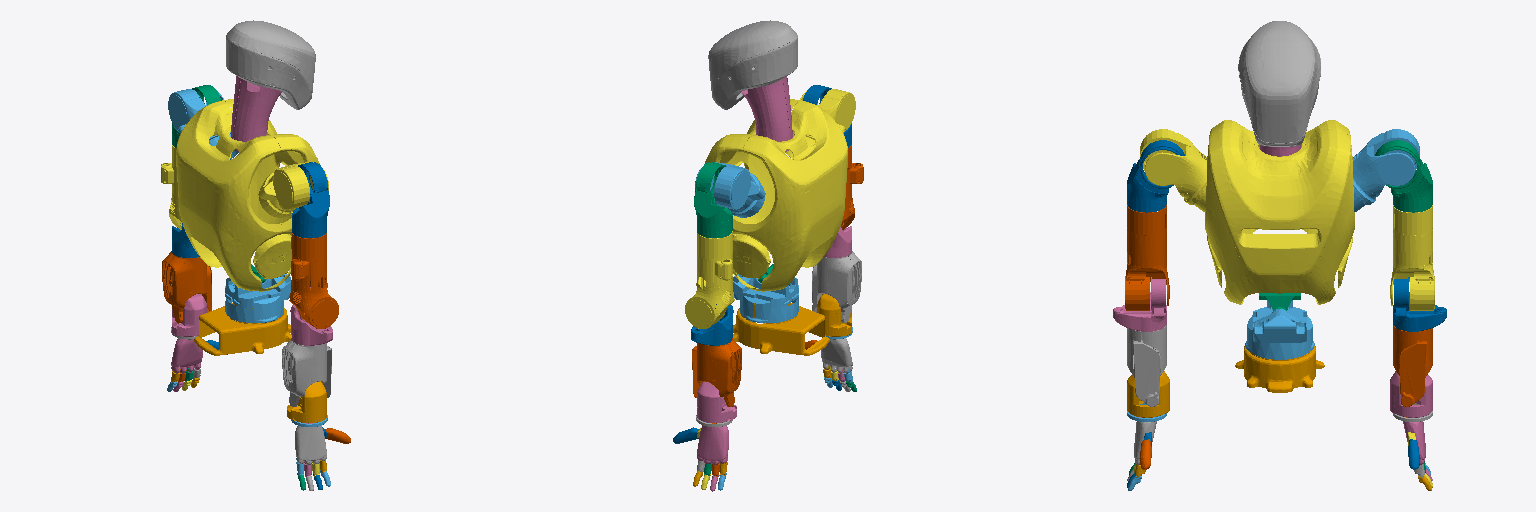
--- What the picture shows (computed from the rendered views, not written in the file) ---
The picture shows the robot from 3 angles, left to right: view 1: azimuth 30°, elevation 25°; view 2: azimuth 150°, elevation 25°; view 3: azimuth 270°, elevation 25°; orthographic projection.
Robot: alex_psyonic_hands — 63 links, 62 joints (39 revolute, 23 fixed); root link Pelvis; default pose: all joints at 0.
Visible links, largest first — view 1: Torso, Head, RightShoulderYawLink, Pelvis, RightWristYawLink, LeftWristYawLink, SpineYawLink, NeckYawLink, RightShoulderPitchLink, RightShoulderRollLink, LeftShoulderPitchLink, RightWristRollLink (+6 smaller); view 2: Torso, Head, LeftShoulderYawLink, Pelvis, LeftWristYawLink, RightWristYawLink, SpineYawLink, NeckYawLink, LeftShoulderPitchLink, LeftShoulderRollLink, RightShoulderPitchLink, LeftWristRollLink (+6 smaller); view 3: Torso, Head, RightShoulderYawLink, LeftShoulderYawLink, RightShoulderPitchLink, LeftShoulderPitchLink, SpineYawLink, Pelvis, LeftWristYawLink, RightWristYawLink, LeftShoulderRollLink, RightShoulderRollLink (+4 smaller).
Boxes of the visible links, x1,y1,x2,y2 form: Torso: [176, 99, 319, 291]; Head: [226, 20, 315, 109]; RightShoulderYawLink: [289, 233, 338, 328]; Pelvis: [194, 303, 291, 355]; RightWristYawLink: [282, 338, 331, 406]; LeftWristYawLink: [162, 251, 211, 323]; SpineYawLink: [225, 274, 290, 322]; NeckYawLink: [231, 76, 281, 151]; RightShoulderPitchLink: [258, 162, 328, 217]; RightShoulderRollLink: [292, 162, 329, 237]; LeftShoulderPitchLink: [168, 89, 238, 159]; RightWristRollLink: [287, 381, 326, 422]; Torso: [705, 99, 847, 291]; Head: [708, 20, 797, 109]; LeftShoulderYawLink: [685, 231, 734, 328]; Pelvis: [733, 303, 829, 355]; LeftWristYawLink: [692, 338, 741, 406]; RightWristYawLink: [812, 251, 861, 323]; SpineYawLink: [733, 274, 798, 322]; NeckYawLink: [742, 76, 792, 151]; LeftShoulderPitchLink: [695, 162, 765, 217]; LeftShoulderRollLink: [694, 162, 732, 237]; RightShoulderPitchLink: [785, 89, 855, 159]; LeftWristRollLink: [697, 381, 736, 422]; Torso: [1205, 120, 1354, 304]; Head: [1238, 21, 1320, 146]; RightShoulderYawLink: [1125, 205, 1169, 310]; LeftShoulderYawLink: [1390, 205, 1434, 310]; RightShoulderPitchLink: [1140, 129, 1206, 211]; LeftShoulderPitchLink: [1353, 129, 1419, 211]; SpineYawLink: [1245, 300, 1314, 359]; Pelvis: [1235, 346, 1324, 392]; LeftWristYawLink: [1393, 325, 1432, 406]; RightWristYawLink: [1127, 325, 1166, 406]; LeftShoulderRollLink: [1375, 140, 1432, 212]; RightShoulderRollLink: [1127, 140, 1184, 212].
Size in the robot's own frame: 0.3163 by 0.7309 by 1.11 metres.
Meshes: 29 distinct files referenced, 44 mesh visuals loaded (29 OBJ).

The robot description file, URDF, robot "alex_psyonic_hands":
<?xml version = "1.0" ?>
<!-- =================================================================================== -->
<!-- |    This document was autogenerated by xacro from robot.xacro                    | -->
<!-- |    EDITING THIS FILE BY HAND IS NOT RECOMMENDED                                 | -->
<!-- =================================================================================== -->
<robot name="alex_psyonic_hands">

		<!-- 8020 Base, Chest and Head -->
	<link name="Pelvis">
		<inertial>
			<mass value="4.074"/>
			<origin rpy="0 0 0" xyz="-0.010295 -0.001599 0.056458"/>
			<inertia ixx="0.010219858" ixy="-0.00012501" ixz="-0.001101619" iyy="0.015397437" iyz="-0.000162984" izz="0.015996955" />
		</inertial>
		<visual>
			<geometry>
				<mesh filename="package://example-robot-data/robots/alex_description/meshes/ALX02_02_A01_BaseLink.obj"/>
			</geometry>
			<origin rpy="0.0 0.0 0.0" xyz="0.0 0.0 0.0"/>
		</visual>
	<collision>
      <origin xyz="0 0 0.0" rpy="0 0 0" />
      <geometry>
        <mesh filename="package://example-robot-data/robots/alex_description/meshes/ALX02_02_A01_BaseLink.obj" />
      </geometry>
    </collision>
	</link>
	<!-- Spine Joints -->
	<joint name="SpineYaw" type="revolute">
		<origin rpy="0 0 0" xyz="0 0 0.1045" />
		<axis xyz="0 0 1" />
		<parent link="Pelvis" />
		<child link="SpineYawLink" />
		<limit effort="150" lower="-1.0472" upper="1.0472" velocity = "9.0" />
		<dynamics damping="0.05" friction="0.0"/>
    </joint>

	<joint name="SpineRoll" type="revolute">
		<origin rpy="0 0 0" xyz="-0.015 0 0.0528" />
		<axis xyz="1 0 0" />
		<parent link="SpineYawLink" />
		<child link="SpineRollLink" />
		<limit effort="150.0" lower="-0.436332" upper="0.436332" velocity = "6.0" />
		<dynamics damping="0.05" friction="0.0"/>
	</joint>

	<joint name="SpinePitch" type="revolute">
		<origin rpy="0 0 0" xyz="0 0 0.035" />
		<axis xyz="0 1 0" />
		<parent link="SpineRollLink" />
		<child link="Torso" />
		<limit effort="250.0" lower="-0.523599" upper="0.785398" velocity = "6.0" />
		<dynamics damping="0.05" friction="0.0"/>
	</joint>

	<!-- Spine Links -->
	<link name="SpineYawLink">
		<inertial>
			<mass value="1.839"/>
			<origin rpy="0 0 0" xyz="0.00785 0.001802 0.030654"/>
			<inertia ixx="0.005450626" ixy="0.000208526" ixz="-0.001171705" iyy="0.007137808" iyz="0.000116812" izz="0.006970545"/>
		</inertial>
		<visual>
			<geometry>
				<mesh filename="package://example-robot-data/robots/alex_description/meshes/ALX02_02_A04_BaseDiffLink.obj"/>
			</geometry>
			<origin rpy="0.0 0.0 0.0" xyz="0.0 0.0 0.0"/>
		</visual>
	<collision>
      <origin xyz="0 0 0.0" rpy="0 0 0" />
      <geometry>
        <mesh filename="package://example-robot-data/robots/alex_description/meshes/ALX02_02_A04_BaseDiffLink.obj" />
      </geometry>
    </collision>
	</link>

	<link name="SpineRollLink">
		<inertial>
			<mass value="0.235"/>
			<origin rpy="0 0 0" xyz="0.000674 0.000626 0.018996"/>
			<inertia ixx="0.000188204" ixy="0.000000058" ixz="0.000002065" iyy="0.000148152" iyz="-0.000002403" izz="0.000195223"/>
		</inertial>
		<visual>
			<geometry>
				<mesh filename="package://example-robot-data/robots/alex_description/meshes/ALX02_02_A05_UJointLink.obj"/>
			</geometry>
			<origin rpy="0.0 0.0 0.0" xyz="0.0 0.0 0.0"/>
		</visual>
	<collision>
      <origin xyz="0 0 0.0" rpy="0 0 0" />
      <geometry>
        <mesh filename="package://example-robot-data/robots/alex_description/meshes/ALX02_02_A05_UJointLink.obj" />
      </geometry>
    </collision>
	</link>

	<!-- Torso Link -->
	<link name="Torso">
		<inertial>
			<mass value="17.574"/>
			<origin rpy="0 0 0" xyz="0.003673 0.000059 0.160289"/>
			<inertia ixx="0.24725248" ixy="-0.000080922" ixz="0.000927935" iyy="0.158680043" iyz="0.000328726" izz="0.153487995"/>
		</inertial>
		<visual>
			<geometry>
				<mesh filename="package://example-robot-data/robots/alex_description/meshes/ALX02_02_A06_TorsoLink.obj"/>
			</geometry>
			<origin rpy="0.0 0.0 0.0" xyz="0.0 0.0 0.0"/>
		</visual>
	<collision>
      <origin xyz="0 0 0.0" rpy="0 0 0" />
      <geometry>
        <mesh filename="package://example-robot-data/robots/alex_description/meshes/ALX02_02_A06_TorsoLink.obj" />
      </geometry>
    </collision>
	</link>

	<!-- TORSO IMU's NOTE: The torso IMUs are redundant-->
	<!-- Torso Left IMU. Currently not used for anything-->
	<link name="TorsoLeftIMULink">
		<inertial>
			<mass value="0"/>
			<origin rpy="0 0 0" xyz="0 0 0"/>
			<inertia ixx="0.0" ixy="0.0" ixz="0.0" iyy="0.0" iyz="0.0" izz="0.0"/>
		</inertial>
	</link>
	<joint name="TorsoLeftIMUJoint" type="fixed">
		<origin rpy="1.5707963267948966 -0.6981317007977316 1.5707963267948961" xyz="0.07978495 0.10932294 0.17623744"/>
		<axis xyz="0 0 1"/>
		<parent link="Torso"/>
		<child link="TorsoLeftIMULink"/>
	</joint>
	<gazebo reference="TorsoLeftIMULink">
		<sensor name="TorsoLeftIMU" type="imu">
			<always_on>true</always_on>
			<imu>
				<noise>
					<type>gaussian</type>
					<rate>
						<mean>0</mean>
						<stddev>0.0002</stddev>
						<bias_mean>7.5e-06</bias_mean>
						<bias_stddev>8e-07</bias_stddev>
					</rate>
					<accel>
						<mean>0</mean>
						<stddev>0.017</stddev>
						<bias_mean>0.1</bias_mean>
						<bias_stddev>0.001</bias_stddev>
					</accel>
				</noise>
			</imu>
		</sensor>
	</gazebo>

	<!-- Torso Right IMU. Currently not used for anything-->
	<link name="TorsoRightIMULink">
		<inertial>
			<mass value="0"/>
			<origin rpy="0 0 0" xyz="0 0 0"/>
			<inertia ixx="0.0" ixy="0.0" ixz="0.0" iyy="0.0" iyz="0.0" izz="0.0"/>
		</inertial>
	</link>
	<joint name="TorsoRightIMUJoint" type="fixed">
		<origin rpy="1.5707963267948966 0.6981317007977319 1.5707963267948966" xyz="0.07978495 -0.09055680 0.16048643"/>
		<axis xyz="0 0 1"/>
		<parent link="Torso"/>
		<child link="TorsoRightIMULink"/>
	</joint>
	<gazebo reference="TorsoRightIMULink">
		<sensor name="TorsoRightIMU" type="imu">
			<always_on>true</always_on>
			<imu>
				<noise>
					<type>gaussian</type>
					<rate>
						<mean>0</mean>
						<stddev>0.0002</stddev>
						<bias_mean>7.5e-06</bias_mean>
						<bias_stddev>8e-07</bias_stddev>
					</rate>
					<accel>
						<mean>0</mean>
						<stddev>0.017</stddev>
						<bias_mean>0.1</bias_mean>
						<bias_stddev>0.001</bias_stddev>
					</accel>
				</noise>
			</imu>
		</sensor>
	</gazebo>

	<!-- Neck Joints -->
	<joint name="NeckYaw" type="revolute">
		<origin rpy="0 0 0" xyz="0 0 0.307953" /> <!-- placeholder for the joint location -->
		<axis xyz="0 0 1" />
		<parent link="Torso" />
		<child link="NeckYawLink" />
		<limit effort="20" lower="-1.5708" upper="1.5708" velocity = "20" />
		<dynamics damping="0.05" friction="0.0"/>
	</joint>

	<joint name="NeckPitch" type="revolute">
		<origin rpy="0 0 0" xyz="0.025 0.01 0.207252" />
		<axis xyz="0 1 0" />
		<parent link="NeckYawLink" />
		<child link="Head" />
		<limit effort="20" lower="-1.0472" upper="1.0472" velocity = "20" />
		<dynamics damping="0.05" friction="0.0"/>
	</joint>

	<!--	 Neck and Head -->
	<!--	 Inertia data is a placeholder -->
	<link name="NeckYawLink">
		<inertial>
			<mass value="1.141"/>
			<origin rpy="0 0 0" xyz="0.007143 0.006943 0.109823"/>
			<inertia ixx="0.007475898" ixy="-0.000075723" ixz="-0.000745362" iyy="0.007407578" iyz="-0.000436948" izz="0.00109269" />
		</inertial>
		<visual>
			<geometry>
				<mesh filename="package://example-robot-data/robots/alex_description/meshes/ALX02_01_A03_NeckLink.obj"/>
			</geometry>
			<origin rpy="0.0 0.0 0.0" xyz="0.0 0.0 0.0"/>
		</visual>
	<collision>
      <origin xyz="0 0 0.0" rpy="0 0 0" />
      <geometry>
        <mesh filename="package://example-robot-data/robots/alex_description/meshes/ALX02_01_A03_NeckLink.obj" />
      </geometry>
    </collision>
	</link>

	<link name="Head">
		<inertial>
			<mass value="1.677"/>
			<origin rpy="0 0 0" xyz="0.03237 -0.013568 0.007163"/>
			<inertia ixx="0.006026191" ixy="-0.000197484" ixz="0.001813659" iyy="0.008182071" iyz="-0.000042529" izz="0.00644909"/>
		</inertial>
		<visual>
			<geometry>
				<mesh filename="package://example-robot-data/robots/alex_description/meshes/ALX02_01_A02_HeadLink.obj"/>
			</geometry>
			<origin rpy="0.0 0.0 0.0" xyz="0.0 0.0 0.0"/>
		</visual>
	<collision>
      <origin xyz="0 0 0.0" rpy="0 0 0" />
      <geometry>
        <mesh filename="package://example-robot-data/robots/alex_description/meshes/ALX02_01_A02_HeadLink.obj" />
      </geometry>
    </collision>
	</link>

	<!-- NeckBaseIMU-->
	<!-- this is an IMU on top of the Neck yaw motor controller board-->
	<link name="TorsoIMULink">
		<inertial>
			<mass value="0"/>
			<origin rpy="0 0 0" xyz="0 0 0"/>
			<inertia ixx="0.0" ixy="0.0" ixz="0.0" iyy="0.0" iyz="0.0" izz="0.0"/>
		</inertial>
	</link>
	<joint name="TorsoIMUJoint" type="fixed">
		<origin rpy="0 0 -1.5707963267948966" xyz="0.00399725 -0.01225021 0.24512039"/>
		<axis xyz="0 0 1"/>
		<parent link="Torso"/>
		<child link="TorsoIMULink"/>
	</joint>
	<gazebo reference="TorsoIMULink">
		<sensor name="TorsoIMU" type="imu">
			<always_on>true</always_on>
			<imu>
				<noise>
					<type>gaussian</type>
					<rate>
						<mean>0</mean>
						<stddev>0.0002</stddev>
						<bias_mean>7.5e-06</bias_mean>
						<bias_stddev>8e-07</bias_stddev>
					</rate>
					<accel>
						<mean>0</mean>
						<stddev>0.017</stddev>
						<bias_mean>0.1</bias_mean>
						<bias_stddev>0.001</bias_stddev>
					</accel>
				</noise>
			</imu>
		</sensor>
	</gazebo>

	<!-- LEFT ARM -->
	<!-- left upper arm joints -->
	<joint name="LeftShoulderPitch" type="revolute">
		<origin xyz="0 0.12799 0.235694" rpy="0.698132 0.0 0.0"   />
		<axis xyz="0.0 1.0 0.0" />
		<parent link="Torso" />
		<child link="LeftShoulderPitchLink" />
		<limit effort="150.0" lower="-3.141592" upper="1.22173" velocity = "9.0" />
		<dynamics damping="0.05" friction="0.0"/>
	</joint>

	<joint name="LeftShoulderRoll" type="revolute">
		<origin rpy="-0.698132 0.0 0.0" xyz="0.0 0.15676000 -0.01300000" />
		<axis xyz="1 0 0" />
		<parent link="LeftShoulderPitchLink" />
		<child link="LeftShoulderRollLink" />
		<limit effort="150.0" lower="-0.349066" upper="2.79253" velocity = "9.0" />
		<dynamics damping="0.05" friction="0.0"/>
	</joint>

	<joint name="LeftShoulderYaw" type="revolute">
		<origin rpy="0.0 0.0 0.0" xyz="0.0 0.035 0.0" />
		<axis xyz="0.0 0.0 1.0" />
		<parent link="LeftShoulderRollLink" />
		<child link="LeftShoulderYawLink" />
		<limit effort="80.0" lower="-1.91986" upper="1.22173" velocity = "11.5" />
		<dynamics damping="0.05" friction="0.0"/>
	</joint>

	<joint name="LeftElbowPitch" type="revolute">
		<origin rpy="0.0 0.0 0.0" xyz="0.015 0.0 -0.3127" />
		<axis xyz="0.0 1.0 0.0" />
		<parent link="LeftShoulderYawLink" />
		<child link="LeftElbowPitchLink" />
		<limit effort="80.0" lower="-2.35619" upper="0.174532925" velocity = "11.5" />
		<dynamics damping="0.05" friction="0.0"/>
	</joint>

	<!-- left wrist joints -->
	<joint name="LeftWristYaw" type="revolute">
		<origin xyz="-0.015 0.0 0.0" rpy="0.0 0.0 0.0"   />
		<axis xyz="0.0 0.0 1.0" />
		<parent link="LeftElbowPitchLink" />
		<child link="LeftWristYawLink" />
		<limit effort="20.0" lower="-2.61799" upper="2.61799" velocity = "25.0" />
		<dynamics damping="0.05" friction="0.0"/>
	</joint>

	<joint name="LeftWristRoll" type="revolute">
		<origin xyz="0.0 -0.013 -0.25" rpy="0.0 0.0 0.0"/>
		<axis xyz="1 0 0" />
		<parent link="LeftWristYawLink" />
		<child link="LeftWristRollLink" />
		<limit effort="20.0" lower="-1.8326" upper="0.610865" velocity = "25.0" />
		<dynamics damping="0.05" friction="0.0"/>
	</joint>

	<joint name="LeftGripperYaw" type="revolute">
		<origin xyz="0.0 0.013 -0.031" rpy="0.0 0.0 0.0" />
		<axis xyz="0.0 0.0 1.0" />
		<parent link="LeftWristRollLink" />
		<child link="LeftGripperYawLink" />
		<limit effort="20.0" lower="-2.61799" upper="2.61799" velocity = "25.0" />
		<dynamics damping="0.05" friction="0.0"/>
	</joint>

	<!-- left upper arm links -->
	<link name="LeftShoulderPitchLink">
		<inertial>
			<mass value="2.99"/>
			<origin
					rpy="0 0 0"
					xyz="-0.00264 0.12135 -0.006824"/>
			<inertia ixx="0.0111046" ixy="0.0002882" ixz="-0.000054" iyy="0.0051699" iyz="0.0009318" izz="0.01176" />
		</inertial>
		<visual>
			<geometry>
				<mesh filename="package://example-robot-data/robots/alex_description/meshes/cycloidal_arm/LeftShoulderPitchLink.obj"/>
			</geometry>
			<origin rpy="0.0 0.0 0.0" xyz="0.0 0.0 0.0"/>
		</visual>
	<collision>
      <origin xyz="0 0 0.0" rpy="0 0 0" />
      <geometry>
        <mesh filename="package://example-robot-data/robots/alex_description/meshes/cycloidal_arm/LeftShoulderPitchLink.obj" />
      </geometry>
    </collision>
	</link>

	<link name="LeftShoulderRollLink">
		<inertial>
			<mass value="0.972"/>
			<origin
					rpy="0 0 0"
					xyz="0.01251711 0.0188309 -0.03849849"/>
			<inertia ixx="0.0029485" ixy="0.0001386" ixz="-0.0003345" iyy="0.0023587" iyz="0.0005255" izz="0.0014366" />
		</inertial>
		<visual>
			<geometry>
				<mesh filename="package://example-robot-data/robots/alex_description/meshes/cycloidal_arm/LeftShoulderRollLink_shortBicep.obj"/>
			</geometry>
			<origin rpy="0.0 0.0 0.0" xyz="0.0 0.0 0.0"/>
		</visual>
	<collision>
      <origin xyz="0 0 0.0" rpy="0 0 0" />
      <geometry>
        <mesh filename="package://example-robot-data/robots/alex_description/meshes/cycloidal_arm/LeftShoulderRollLink_shortBicep.obj" />
      </geometry>
    </collision>
	</link>

	<link name="LeftShoulderYawLink">
		<inertial>
			<mass value="2.91"/>
			<origin
					rpy="0 0 0"
					xyz="0.00510403 0.00314332 -0.21695413"/>
			<inertia ixx="0.0267829" ixy="-0.000011" ixz="0.0015998" iyy="0.0265514" iyz="0.0004426" izz="0.003052" />
		</inertial>
		<visual>
			<geometry>
				<mesh filename="package://example-robot-data/robots/alex_description/meshes/cycloidal_arm/LeftShoulderYawLink.obj"/>
			</geometry>
			<origin rpy="0.0 0.0 0.0" xyz="0.0 0.0 0.0867"/>
		</visual>
	<collision>
      <origin xyz="0 0 0.0" rpy="0 0 0" />
      <geometry>
        <mesh filename="package://example-robot-data/robots/alex_description/meshes/cycloidal_arm/LeftShoulderYawLink.obj" />
      </geometry>
    </collision>
	</link>

	<!-- left wrist links -->
	<link name="LeftElbowPitchLink">
		<inertial>
			<mass value="0.45"/>
			<origin
					rpy="0 0 0"
					xyz="-0.01180322 -0.0035763 -0.04946747"/>

			<inertia ixx="0.0007362" ixy="-0.0000088" ixz="-0.0000292" iyy="0.0006567" iyz="0.0001499" izz="0.0004897" />
		</inertial>
		<visual>
			<geometry>
				<mesh filename="package://example-robot-data/robots/alex_description/meshes/cycloidal_arm/LeftElbowPitchLink.obj"/>
			</geometry>
			<origin rpy="0.0 0.0 0.0" xyz="0.0 0.0 0.0"/>
		</visual>
	<collision>
      <origin xyz="0 0 0.0" rpy="0 0 0" />
      <geometry>
        <mesh filename="package://example-robot-data/robots/alex_description/meshes/cycloidal_arm/LeftElbowPitchLink.obj" />
      </geometry>
    </collision>
	</link>

	<link name="LeftWristYawLink">
		<inertial>
			<mass value="1.547"/> <!-- This is a measured value. Refer to https://docs.google.com/spreadsheets/d/1VXWFJk3VJUsfkHrDaytB2INq94un1KytIOzcKJD0p44/edit?gid=0#gid=0  -->
			<origin
					rpy="0 0 0"
					xyz="-0.00263832 -0.00050534 -0.13018376"/>

			<inertia ixx="0.0037869" ixy="0.0000163" ixz="-0.0000252" iyy="0.004071" iyz="-0.0000924" izz="0.0015203" />
		</inertial>
		<visual>
			<geometry>
				<mesh filename="package://example-robot-data/robots/alex_description/meshes/cycloidal_arm/LeftWristYawLink.obj"/>
			</geometry>
			<origin rpy="0.0 0.0 0.0" xyz="0.0 0.0 0.0"/>
		</visual>
	<collision>
      <origin xyz="0 0 0.0" rpy="0 0 0" />
      <geometry>
        <mesh filename="package://example-robot-data/robots/alex_description/meshes/cycloidal_arm/LeftWristYawLink.obj" />
      </geometry>
    </collision>
	</link>


	<link name="LeftWristRollLink">
		<inertial>
			<mass value="0.909"/> <!-- This is a measured value. Refer to https://docs.google.com/spreadsheets/d/1VXWFJk3VJUsfkHrDaytB2INq94un1KytIOzcKJD0p44/edit?gid=0#gid=0  -->
			<origin
					rpy="0 0 0"
					xyz="0.00004053 0.01038395 0.00035532"/>

			<inertia ixx="0.000477" ixy="-0.0000079" ixz="-0.0000097" iyy="0.0004902" iyz="-0.0000008" izz="0.000514" />
		</inertial>

		<visual>
			<geometry>
				<mesh filename="package://example-robot-data/robots/alex_description/meshes/cycloidal_arm/LeftWristRollLink.obj"/>
			</geometry>
			<origin rpy="0.0 0.0 0.0" xyz="0.0 0.0 0.0"/>
		</visual>
	<collision>
      <origin xyz="0 0 0.0" rpy="0 0 0" />
      <geometry>
        <mesh filename="package://example-robot-data/robots/alex_description/meshes/cycloidal_arm/LeftWristRollLink.obj" />
      </geometry>
    </collision>
	</link>


	<link name="LeftGripperYawLink">
		<inertial>
			<mass value="0.251"/>
			<origin
					rpy="0 0 0"
					xyz="-0.000217 -0.000349 0.009761"/>
			<inertia ixx="0.0000722" ixy="-0.0000016" ixz="-0.0000037" iyy="0.0000747" iyz="0.0000004" izz="0.0000324" />
		</inertial>
		<visual>
			<geometry>
				<mesh filename="package://example-robot-data/robots/alex_description/meshes/cycloidal_arm/LeftGripperYawLink.obj"/>
			</geometry>
			<origin rpy="0.0 0.0 0.0" xyz="0.0 0.0 0.0"/>
		</visual>
	<collision>
      <origin xyz="0 0 0.0" rpy="0 0 0" />
      <geometry>
        <mesh filename="package://example-robot-data/robots/alex_description/meshes/cycloidal_arm/LeftGripperYawLink.obj" />
      </geometry>
    </collision>
	</link>

	<!-- LEFT ARM IMU's -->
	<!-- Left Shoulder Pitch IMU Information -->
	<link name="LeftShoulderPitchIMULink">
		<inertial>
			<mass value="0"/>
			<origin rpy="0 0 0" xyz="0 0 0"/>
			<inertia ixx="0.0" ixy="0.0" ixz="0.0" iyy="0.0" iyz="0.0" izz="0.0"/>
		</inertial>
	</link>
	<joint name="LeftShoulderPitchIMUJoint" type="fixed">
		<origin rpy="-3.141592 0 -1.57079632679" xyz="0.01432621 0.0755071 -0.00245783"/>
		<axis xyz="0 0 1"/>
		<parent link="LeftShoulderPitchLink"/>
		<child link="LeftShoulderPitchIMULink"/>
	</joint>
	<gazebo reference="LeftShoulderPitchIMULink">
		<sensor name="LeftShoulderPitchIMU" type="imu">
			<always_on>true</always_on>
			<imu>
				<noise>
					<type>gaussian</type>
					<rate>
						<mean>0</mean>
						<stddev>0.0002</stddev>
						<bias_mean>7.5e-06</bias_mean>
						<bias_stddev>8e-07</bias_stddev>
					</rate>
					<accel>
						<mean>0</mean>
						<stddev>0.017</stddev>
						<bias_mean>0.1</bias_mean>
						<bias_stddev>0.001</bias_stddev>
					</accel>
				</noise>
			</imu>
		</sensor>
	</gazebo>

	<!-- Left ShoulderYaw IMU Note: in CAD this is the left bicep IMU -->
	<link name="LeftShoulderYawIMULink">
		<inertial>
			<mass value="0"/>
			<origin rpy="0 0 0" xyz="0 0 0"/>
			<inertia ixx="0.0" ixy="0.0" ixz="0.0" iyy="0.0" iyz="0.0" izz="0.0"/>
		</inertial>
	</link>
	<joint name="LeftShoulderYawIMUJoint" type="fixed">
		<origin rpy="1.570796 3.1415926 -0.314159" xyz="-0.00633723 -0.00669505 -0.19881468"/>
		<axis xyz="0 0 1"/>
		<parent link="LeftShoulderYawLink"/>
		<child link="LeftShoulderYawIMULink"/>
	</joint>
	<gazebo reference="LeftShoulderYawIMULink">
		<sensor name="LeftShoulderYawIMU" type="imu">
			<always_on>true</always_on>
			<pose>0 0 0 0 0 0</pose>
			<imu>
				<noise>
					<type>gaussian</type>
					<rate>
						<mean>0</mean>
						<stddev>0.0002</stddev>
						<bias_mean>7.5e-06</bias_mean>
						<bias_stddev>8e-07</bias_stddev>
					</rate>
					<accel>
						<mean>0</mean>
						<stddev>0.017</stddev>
						<bias_mean>0.1</bias_mean>
						<bias_stddev>0.001</bias_stddev>
					</accel>
				</noise>
			</imu>
		</sensor>
	</gazebo>

	<!-- Left Wrist Yaw IMU Note: in CAD this is the left bicep IMU -->
	<link name="LeftWristYawIMULink">
		<inertial>
			<mass value="0"/>
			<origin rpy="0 0 0" xyz="0 0 0"/>
			<inertia ixx="0.0" ixy="0.0" ixz="0.0" iyy="0.0" iyz="0.0" izz="0.0"/>
		</inertial>
	</link>

	<joint name="LeftWristYawIMUJoint" type="fixed">
		<origin rpy="1.571  0.0 1.571" xyz="-0.048986 0.011658 -0.149476"/>
		<axis xyz="0 0 1"/>
		<parent link="LeftWristYawLink"/>
		<child link="LeftWristYawIMULink"/>
	</joint>

	<gazebo reference="LeftWristYawIMULink">
		<sensor name="LeftWristYawIMU" type="imu">
			<always_on>true</always_on>
			<imu> <!-- placeholder tag for IMU --> </imu>
		</sensor>
	</gazebo>

	<!-- RIGHT ARM -->
	<!-- Right Upper Arm Joints -->
	<joint name="RightShoulderPitch" type="revolute">
		<origin xyz="0 -0.12799 0.235694" rpy="-0.698132 0.0 0.0"   />
		<axis xyz="0.0 1.0 0.0" />
		<parent link="Torso" />
		<child link="RightShoulderPitchLink" />
		<limit effort="1000" lower="-3.141592" upper="1.22173" velocity = "100" />
		<dynamics damping="0.05" friction="0.0"/>
	</joint>
	<joint name="RightShoulderRoll" type="revolute">
		<origin rpy="0.698132 0.0 0.0" xyz="0.0 -0.15676000 -0.01300000" />
		<axis xyz="1 0 0" />
		<parent link="RightShoulderPitchLink" />
		<child link="RightShoulderRollLink" />
		<limit effort="1000" lower="-2.79253" upper="0.349066" velocity = "100" />
		<dynamics damping="0.05" friction="0.0"/>
	</joint>
	<joint name="RightShoulderYaw" type="revolute">
		<origin rpy="0.0 0.0 0.0" xyz="0.0 -0.035 0.0" />
		<axis xyz="0.0 0.0 1.0" />
		<parent link="RightShoulderRollLink" />
		<child link="RightShoulderYawLink" />
		<limit effort="1000" lower="-1.22173" upper="1.91986" velocity = "100" />
		<dynamics damping="0.05" friction="0.0"/>
	</joint>
	<joint name="RightElbowPitch" type="revolute">
		<origin rpy="0.0 0.0 0.0" xyz="0.015 0.0 -0.3127" />
		<axis xyz="0.0 1.0 0.0" />
		<parent link="RightShoulderYawLink" />
		<child link="RightElbowPitchLink" />
		<limit effort="1000" lower="-2.35619" upper="0.174532925" velocity = "100" />
		<dynamics damping="0.05" friction="0.0"/>
	</joint>

	<!-- Right wrist joints -->
	<joint name="RightWristYaw" type="revolute">
		<origin xyz="-0.015 0.0 0.0" rpy="0.0 0.0 0.0"   />
		<axis xyz="0.0 0.0 1.0" />
		<parent link="RightElbowPitchLink" />
		<child link="RightWristYawLink" />
		<limit effort="20.0" lower="-2.61799" upper="2.61799" velocity = "25.0" />
		<dynamics damping="0.05" friction="0.0"/>
	</joint>

	<joint name="RightWristRoll" type="revolute">
		<origin xyz="0.0 0.013 -0.25" rpy="0.0 0.0 0.0"/>
		<axis xyz="1 0 0" />
		<parent link="RightWristYawLink" />
		<child link="RightWristRollLink" />
		<limit effort="20.0" lower="-0.610865" upper="1.8326" velocity = "25.0" />
		<dynamics damping="0.05" friction="0.0"/>
	</joint>

	<joint name="RightGripperYaw" type="revolute">
		<origin xyz="0.0 -0.013 -0.031" rpy="0.0 0.0 0.0" />
		<axis xyz="0.0 0.0 1.0" />
		<parent link="RightWristRollLink" />
		<child link="RightGripperYawLink" />
		<limit effort="20.0" lower="-2.61799" upper="2.61799" velocity = "25.0" />
		<dynamics damping="0.05" friction="0.0"/>
	</joint>

	<!-- Right Upper Arm Links -->
	<link name="RightShoulderPitchLink">
		<inertial>
			<mass value="2.99"/>
			<origin rpy="0 0 0" xyz="-0.00264 -0.12135 -0.006824"/>
			<inertia ixx="0.0110394" ixy="-0.0003041" ixz="-0.0000594" iyy="0.0051097" iyz="-0.0009183" izz="0.0116925" />
		</inertial>
		<visual>
			<geometry>
				<mesh filename="package://example-robot-data/robots/alex_description/meshes/cycloidal_arm/RightShoulderPitchLink.obj"/>
			</geometry>
			<origin rpy="0.0 0.0 0.0" xyz="0.0 0.0 0.0"/>
		</visual>
	<collision>
      <origin xyz="0 0 0.0" rpy="0 0 0" />
      <geometry>
        <mesh filename="package://example-robot-data/robots/alex_description/meshes/cycloidal_arm/RightShoulderPitchLink.obj" />
      </geometry>
    </collision>
	</link>

	<link name="RightShoulderRollLink">
		<inertial>
			<mass value="0.972"/>
			<origin rpy="0 0 0" xyz="0.012489 -0.01882 -0.0385"/>
			<inertia ixx="0.002949" ixy="-0.000135" ixz="-0.0003358" iyy="0.0023603" iyz="-0.0005249" izz="0.0014377" />
		</inertial>
		<visual>
			<geometry>
				<mesh filename="package://example-robot-data/robots/alex_description/meshes/cycloidal_arm/RightShoulderRollLink_shortBicep.obj"/>
			</geometry>
			<origin rpy="0.0 0.0 0.0" xyz="0.0 0.0 0.0"/>
		</visual>
	<collision>
      <origin xyz="0 0 0.0" rpy="0 0 0" />
      <geometry>
        <mesh filename="package://example-robot-data/robots/alex_description/meshes/cycloidal_arm/RightShoulderRollLink_shortBicep.obj" />
      </geometry>
    </collision>
	</link>

	<link name="RightShoulderYawLink">
		<inertial>
			<mass value="2.91"/>
			<origin rpy="0 0 0" xyz="0.00524 -0.00274 -0.21745"/>
			<inertia ixx="0.0248699" ixy="0.0000211" ixz="0.0000211" iyy="0.0245973" iyz="-0.0004444" izz="0.0029883" />
		</inertial>
		<visual>
			<geometry>
				<mesh filename="package://example-robot-data/robots/alex_description/meshes/cycloidal_arm/RightShoulderYawLink.obj"/>
			</geometry>
			<origin rpy="0.0 0.0 0.0" xyz="0.0 0.0 0.0867"/>
		</visual>
	<collision>
      <origin xyz="0 0 0.0" rpy="0 0 0" />
      <geometry>
        <mesh filename="package://example-robot-data/robots/alex_description/meshes/cycloidal_arm/RightShoulderYawLink.obj" />
      </geometry>
    </collision>
	</link>

	<!-- right wrist links -->
	<link name="RightElbowPitchLink">
		<inertial>
			<mass value="0.45"/>
			<origin xyz="-0.0127 0.006913 -0.048421" rpy="0 0 0"/>
			<inertia ixx="0.0006446" ixy="-0.0000073" ixz="-0.0000345" iyy="0.000625" iyz="-0.0001257" izz="0.0003922" />
		</inertial>
		<visual>
			<geometry>
				<mesh filename="package://example-robot-data/robots/alex_description/meshes/cycloidal_arm/RightElbowPitchLink.obj"/>
			</geometry>
			<origin rpy="0.0 0.0 0.0" xyz="0.0 0.0 0.0"/>
		</visual>
	<collision>
      <origin xyz="0 0 0.0" rpy="0 0 0" />
      <geometry>
        <mesh filename="package://example-robot-data/robots/alex_description/meshes/cycloidal_arm/RightElbowPitchLink.obj" />
      </geometry>
    </collision>
	</link>

	<link name="RightWristYawLink">
		<inertial>
			<mass value="1.547"/> <!-- This is a measured value. Refer to https://docs.google.com/spreadsheets/d/1VXWFJk3VJUsfkHrDaytB2INq94un1KytIOzcKJD0p44/edit?gid=0#gid=0  -->
			<origin xyz="-0.002616 0.000462 -0.13019" rpy="0 0 0"/>
			<inertia ixx="0.0037805" ixy="-0.0000177" ixz="-0.000025" iyy="0.0040639" iyz="0.00009" izz="0.0015151" />
		</inertial>
		<visual>
			<geometry>
				<mesh filename="package://example-robot-data/robots/alex_description/meshes/cycloidal_arm/RightWristYawLink.obj"/>
			</geometry>
			<origin rpy="0.0 0.0 0.0" xyz="0.0 0.0 0.0"/>
		</visual>
	<collision>
      <origin xyz="0 0 0.0" rpy="0 0 0" />
      <geometry>
        <mesh filename="package://example-robot-data/robots/alex_description/meshes/cycloidal_arm/RightWristYawLink.obj" />
      </geometry>
    </collision>
	</link>

	<link name="RightWristRollLink">
		<inertial>
			<mass value="0.909"/> <!-- This is a measured value. Refer to https://docs.google.com/spreadsheets/d/1VXWFJk3VJUsfkHrDaytB2INq94un1KytIOzcKJD0p44/edit?gid=0#gid=0  -->
			<origin xyz="-0.0000481 -0.012143 0.000196" rpy="0 0 0"/>
			<inertia ixx="0.0005535" ixy="0.0000081" ixz="-0.0000231" iyy="0.0005559" iyz="0.0000012" izz="0.0005893" />
		</inertial>
		<visual>
			<geometry>
				<mesh filename="package://example-robot-data/robots/alex_description/meshes/cycloidal_arm/RightWristRollLink.obj"/>
			</geometry>
			<origin rpy="0.0 0.0 0.0" xyz="0.0 0.0 0.0"/>
		</visual>
	<collision>
      <origin xyz="0 0 0.0" rpy="0 0 0" />
      <geometry>
        <mesh filename="package://example-robot-data/robots/alex_description/meshes/cycloidal_arm/RightWristRollLink.obj" />
      </geometry>
    </collision>
	</link>

	<link name="RightGripperYawLink">
		<inertial>
			<mass value="0.251"/>
			<origin rpy="0 0 0" xyz="-0.000217 -0.000349 0.009761"/>
			<inertia ixx="0.0000722" ixy="-0.0000016" ixz="-0.0000037" iyy="0.0000747" iyz="0.0000004" izz="0.0000324" />
		</inertial>
		<visual>
			<geometry>
				<mesh filename="package://example-robot-data/robots/alex_description/meshes/cycloidal_arm/RightGripperYawLink.obj"/>
			</geometry>
			<origin rpy="0.0 0.0 0.0" xyz="0.0 0.0 0.0"/>
		</visual>
	<collision>
      <origin xyz="0 0 0.0" rpy="0 0 0" />
      <geometry>
        <mesh filename="package://example-robot-data/robots/alex_description/meshes/cycloidal_arm/RightGripperYawLink.obj" />
      </geometry>
    </collision>
	</link>
	<!-- Right ARM IMU's -->
	<!-- Right Shoulder Pitch IMU Information -->
	<link name="RightShoulderPitchIMULink">
		<inertial>
			<mass value="0"/>
			<origin rpy="0 0 0" xyz="0 0 0"/>
			<inertia ixx="0.0" ixy="0.0" ixz="0.0" iyy="0.0" iyz="0.0" izz="0.0"/>
		</inertial>
	</link>
	<joint name="RightShoulderPitchIMUJoint" type="fixed">
		<origin rpy="3.141592 0 -1.57079632679" xyz="0.01432621 -0.10001299 -0.00245783"/>
		<axis xyz="0 0 1"/>
		<parent link="RightShoulderPitchLink"/>
		<child link="RightShoulderPitchIMULink"/>
	</joint>
	<gazebo reference="RightShoulderPitchIMULink">
		<sensor name="RightShoulderPitchIMU" type="imu">
			<always_on>true</always_on>
			<imu>
				<noise>
					<type>gaussian</type>
					<rate>
						<mean>0</mean>
						<stddev>0.0002</stddev>
						<bias_mean>7.5e-06</bias_mean>
						<bias_stddev>8e-07</bias_stddev>
					</rate>
					<accel>
						<mean>0</mean>
						<stddev>0.017</stddev>
						<bias_mean>0.1</bias_mean>
						<bias_stddev>0.001</bias_stddev>
					</accel>
				</noise>
			</imu>
		</sensor>
	</gazebo>

	<!-- Right ShoulderYaw IMU Note: in CAD this is the left bicep IMU -->
	<link name="RightShoulderYawIMULink">
		<inertial>
			<mass value="0"/>
			<origin rpy="0 0 0" xyz="0 0 0"/>
			<inertia ixx="0.0" ixy="0.0" ixz="0.0" iyy="0.0" iyz="0.0" izz="0.0"/>
		</inertial>
	</link>
	<joint name="RightShoulderYawIMUJoint" type="fixed">
		<origin rpy="-1.570796 0.0 0.314159" xyz="0.00119168 0.00914134 -0.19881468"/>
		<axis xyz="0 0 1"/>
		<parent link="RightShoulderYawLink"/>
		<child link="RightShoulderYawIMULink"/>
	</joint>
	<gazebo reference="RightShoulderYawIMULink">
		<sensor name="RightShoulderYawIMU" type="imu">
			<always_on>true</always_on>
			<pose>0 0 0 0 0 0</pose>
			<imu>
				<noise>
					<type>gaussian</type>
					<rate>
						<mean>0</mean>
						<stddev>0.0002</stddev>
						<bias_mean>7.5e-06</bias_mean>
						<bias_stddev>8e-07</bias_stddev>
					</rate>
					<accel>
						<mean>0</mean>
						<stddev>0.017</stddev>
						<bias_mean>0.1</bias_mean>
						<bias_stddev>0.001</bias_stddev>
					</accel>
				</noise>
			</imu>
		</sensor>
	</gazebo>

	<!-- Right Wrist Yaw IMU Note: in CAD this is the left bicep IMU -->
	<link name="RightWristYawIMULink">
		<inertial>
			<mass value="0"/>
			<origin rpy="0 0 0" xyz="0 0 0"/>
			<inertia ixx="0.0" ixy="0.0" ixz="0.0" iyy="0.0" iyz="0.0" izz="0.0"/>
		</inertial>
	</link>

	<joint name="RightWristYawIMUJoint" type="fixed">
		<origin rpy="1.571  0.0 1.571" xyz="-0.048986 0.011658 -0.149476"/>
		<axis xyz="0 0 1"/>
		<parent link="RightWristYawLink"/>
		<child link="RightWristYawIMULink"/>
	</joint>

	<gazebo reference="RightWristYawIMULink">
		<sensor name="RightWristYawIMU" type="imu">
			<always_on>true</always_on>
			<imu> <!-- placeholder tag for IMU --> </imu>
		</sensor>
	</gazebo>

<!-- Gripper Fixed Joints -->
	<joint name="rightGrippertAttachmentFixedJoint" type="fixed">
		<origin rpy="-3.141592 0 3.141592" xyz="0 0 -0.02560000"/>
		<parent link="RightGripperYawLink"/>
		<child link="RightPsyonicAbilityBaseLink"/>
    </joint>

	<joint name="leftGrippertAttachmentFixedJoint" type="fixed">
		<origin rpy="3.141592 0 0" xyz="0 0 -0.02560000"/>
		<parent link="LeftGripperYawLink"/>
		<child link="LeftPsyonicAbilityBaseLink"/>
    </joint>

	<!-- Left Psyonic Ability Hand -->
	<link name="LeftPsyonicAbilityBaseLink">
		<visual name="wrist_mesh">
			<origin rpy = "0 0 0" xyz = "0 0 0"/>
			<geometry>
				<mesh filename="package://example-robot-data/robots/alex_description/meshes/wristmesh.obj"/>
			</geometry>
		</visual>
		<inertial>	<!-- the mass and inertia here are NOT correct -->
			<mass value = "0.200"/>
			<inertia ixx="978.26e-6" ixy = "87.34e-6" ixz = "322.99e-6" iyy = "1244.78e-6" iyz = "244.74e-6" izz = "456.22e-6" />
			<origin xyz = "22.41911e-3 -0.15798201e-3 -0.01319866e-3" rpy = "0 0 0"/>
		</inertial>
		<collision>
      <origin xyz="0 0 0" rpy="0 0 0" />
      <geometry>
        <mesh filename="package://example-robot-data/robots/alex_description/meshes/wristmesh.obj" />
      </geometry>
    </collision>
	</link>
	<joint name="Left_wrist2thumb" type="fixed">
		<parent link="LeftPsyonicAbilityBaseLink"/>
		<child link="Left_thumb_base"/>
		<origin xyz = "24.0476665e-3 3.78124745e-3 32.32964923e-3" rpy = "3.14148426 0.08848813 3.14036612"/>
	</joint>

	<link name="Left_thumb_base" >
		<inertial>
			<mass value = "0.400"/>
			<inertia ixx="978.26e-6" ixy = "87.34e-6" ixz = "322.99e-6" iyy = "1244.78e-6" iyz = "244.74e-6" izz = "456.22e-6" />
			<origin xyz = "22.41911e-3 -0.15798201e-3 -0.01319866e-3" rpy = "0 0 0"/>
		</inertial>

		<visual name="palm_mesh">
			<origin rpy = "0 0 0" xyz = "0 0 0"/>
			<geometry>
				<mesh filename="package://example-robot-data/robots/alex_description/meshes/fb_palm_ref.obj"/>
			</geometry>
		</visual>
		<collision>
      <origin xyz="0 0 0" rpy="0 0 0" />
      <geometry>
        <mesh filename="package://example-robot-data/robots/alex_description/meshes/fb_palm_ref.obj" />
      </geometry>
    </collision>
	</link>



	<link name="Left_index_L1" >
		<inertial>
			<mass value = "0.00635888"/>
			<inertia ixx="0.29766e-6" ixy = "-0.06447133e-6" ixz = "-0.00423315e-6" iyy = "3.6947967e-6" iyz = "0.00083028e-6" izz = "3.8176336e-6" />
			<origin xyz = "22.41911e-3 -0.15798201e-3 -0.01319866e-3" rpy = "0 0 0"/>
		</inertial>
		<visual name="index_mesh_1">
			<origin xyz = "0 0 0" rpy = "0 0 0"/>
			<geometry>
				<mesh filename="package://example-robot-data/robots/alex_description/meshes/idx-f1.obj"/>
			</geometry>
		</visual>
		<collision>
      <origin xyz="0 0 0" rpy="0 0 0" />
      <geometry>
        <mesh filename="package://example-robot-data/robots/alex_description/meshes/idx-f1.obj" />
      </geometry>
    </collision>
	</link>
	<link name="Left_index_L2" >
		<inertial>
			<mass value = "0.00645"/>
			<inertia ixx="0.82671e-6" ixy = "-1.08876e-6" ixz = "-0.00037e-6" iyy = "1.98028e-6" iyz = "0.00081e-6" izz = "2.64638e-6" />
			<origin rpy = "0 0 0" xyz = "13.36818e-3 -8.75392e-3 -0.02886e-3"/>
		</inertial>
		<visual name="index_mesh_2">
			<origin rpy = "0 0 0" xyz = "0 0 0"/>
			<geometry>
				<mesh filename="package://example-robot-data/robots/alex_description/meshes/idx-f2.obj"/>
			</geometry>
		</visual>
		<collision>
      <origin xyz="0 0 0" rpy="0 0 0" />
      <geometry>
        <mesh filename="package://example-robot-data/robots/alex_description/meshes/idx-f2.obj" />
      </geometry>
    </collision>
	</link>
	<joint name="Left_index_q1" type="revolute">
		<parent link="Left_thumb_base"/>
		<child link="Left_index_L1"/>
		<origin xyz = "-9.49e-3 -13.04e-3 -62.95e-3" rpy = "-1.982050 1.284473 -2.090591" />
		<axis xyz="0 0 1"/>
		<limit lower = "0" upper = "2.0943951" effort = "6.0" velocity = "8.0677777442"/>		<!-- angles in rad, efforts in N-m, velocity in rad/s -->
		<dynamics damping = "0.001" friction = "0.001" />	<!-- Friction coefficient is not from quantitative measurement -->
	</joint>
	<joint name="Left_index_q2" type="revolute">
		<parent link="Left_index_L1"/>
		<child link="Left_index_L2"/>
		<origin xyz = "38.472723e-3 3.257695e-3 0.000000e-3" rpy = "0 0 0.084474"/>
		<axis xyz="0 0 1"/>
		<limit lower = "0.0" upper = "2.6586" effort = "6.0" velocity = "8.0677777442"/>		<!-- angles in rad, efforts in N-m, velocity in rad/s -->
		<dynamics damping = "0.001" friction = "0.001" />	<!-- Friction coefficient is not from quantitative measurement -->
		<mimic joint = "index_q1" multiplier =  "1.05851325" offset = "0.72349796"/>
	</joint>
	<link name="Left_index_anchor"/>
	<joint name="Left_idx_anchor" type="fixed">
		<parent link = "Left_index_L2"/>
		<child link = "Left_index_anchor"/>
		<origin rpy = "0 0 0" xyz = "31.5541e-3  -10.44e-3 0.14e-3"/>
	</joint>



	<link name="Left_middle_L1" >
		<inertial>
			<mass value = "0.00635888"/>
			<inertia ixx="0.29766e-6" ixy = "-0.06447133e-6" ixz = "-0.00423315e-6" iyy = "3.6947967e-6" iyz = "0.00083028e-6" izz = "3.8176336e-6" />
			<origin xyz = "22.41911e-3 -0.15798201e-3 -0.01319866e-3" rpy = "0 0 0"/>
		</inertial>

		<visual name="middle_mesh_1">
			<origin rpy = "0 0 0" xyz = "0 0 0"/>
			<geometry>
				<mesh filename="package://example-robot-data/robots/alex_description/meshes/idx-f1.obj"/>
			</geometry>
		</visual>
		<collision>
      <origin xyz="0 0 0" rpy="0 0 0" />
      <geometry>
        <mesh filename="package://example-robot-data/robots/alex_description/meshes/idx-f1.obj" />
      </geometry>
    </collision>

	</link>
	<link name="Left_middle_L2" >
		<inertial>
			<mass value = "0.00645"/>
			<inertia ixx="0.82671e-6" ixy = "-1.08876e-6" ixz = "-0.00037e-6" iyy = "1.98028e-6" iyz = "0.00081e-6" izz = "2.64638e-6" />
			<origin rpy = "0 0 0" xyz = "13.36818e-3 -8.75392e-3 -0.02886e-3"/>
		</inertial>
		<visual name="middle_mesh_2">
			<origin rpy = "0 0 0" xyz = "0 0 0"/>
			<geometry>
				<mesh filename="package://example-robot-data/robots/alex_description/meshes/idx-f2.obj"/>
			</geometry>
		</visual>
		<collision>
      <origin xyz="0 0 0" rpy="0 0 0" />
      <geometry>
        <mesh filename="package://example-robot-data/robots/alex_description/meshes/idx-f2.obj" />
      </geometry>
    </collision>
	</link>
	<joint name="Left_middle_q1" type="revolute">
		<parent link="Left_thumb_base"/>
		<child link="Left_middle_L1"/>
		<origin xyz = "9.653191e-3 -15.310271e-3 -67.853949e-3" rpy = "-1.860531 1.308458 -1.896217" />
		<limit lower = "0" upper = "2.0943951" effort = "6.0" velocity = "8.0677777442"/>		<!-- angles in rad, efforts in N-m, velocity in rad/s -->
		<dynamics damping = "0.001" friction = "0.001" />	<!-- Friction coefficient is not from quantitative measurement -->
		<axis xyz="0 0 1"/>
	</joint>
	<joint name="Left_middle_q2" type="revolute">
		<parent link="Left_middle_L1"/>
		<child link="Left_middle_L2"/>
		<origin xyz = "38.472723e-3 3.257695e-3 0.000000" rpy = "0 0 0.084474"/>
		<axis xyz="0 0 1"/>
		<limit lower = "0.0" upper = "2.6586" effort = "6.0" velocity = "8.0677777442"/>		<!-- angles in rad, efforts in N-m, velocity in rad/s -->
		<dynamics damping = "0.001" friction = "0.001" />	<!-- Friction coefficient is not from quantitative measurement -->
		<mimic joint = "middle_q1" multiplier =  "1.05851325" offset = "0.72349796"/>
	</joint>
	<link name="Left_middle_anchor"/>
	<joint name="Left_mid_anchor" type="fixed">
		<parent link = "Left_middle_L2"/>
		<child link = "Left_middle_anchor"/>
		<origin rpy = "0 0 0" xyz = "31.5541e-3  -10.44e-3 0.14e-3"/>
	</joint>





	<link name="Left_ring_L1" >
		<inertial>
			<mass value = "0.00635888"/>
			<inertia ixx="0.29766e-6" ixy = "-0.06447133e-6" ixz = "-0.00423315e-6" iyy = "3.6947967e-6" iyz = "0.00083028e-6" izz = "3.8176336e-6" />
			<origin xyz = "22.41911e-3 -0.15798201e-3 -0.01319866e-3" rpy = "0 0 0"/>
		</inertial>

		<visual name="ring_mesh_1">
			<origin rpy = "0 0 0" xyz = "0 0 0"/>
			<geometry>
				<mesh filename="package://example-robot-data/robots/alex_description/meshes/idx-f1.obj"/>
			</geometry>
		</visual>
		<collision>
      <origin xyz="0 0 0" rpy="0 0 0" />
      <geometry>
        <mesh filename="package://example-robot-data/robots/alex_description/meshes/idx-f1.obj" />
      </geometry>
    </collision>
	</link>
	<link name="Left_ring_L2" >
		<inertial>
			<mass value = "0.00645"/>
			<inertia ixx="0.82671e-6" ixy = "-1.08876e-6" ixz = "-0.00037e-6" iyy = "1.98028e-6" iyz = "0.00081e-6" izz = "2.64638e-6" />
			<origin rpy = "0 0 0" xyz = "13.36818e-3 -8.75392e-3 -0.02886e-3"/>
		</inertial>
		<visual name="ring_mesh_2">
			<origin rpy = "0 0 0" xyz = "0 0 0"/>
			<geometry>
				<mesh filename="package://example-robot-data/robots/alex_description/meshes/idx-f2.obj"/>
			</geometry>
		</visual>
		<collision>
      <origin xyz="0 0 0" rpy="0 0 0" />
      <geometry>
        <mesh filename="package://example-robot-data/robots/alex_description/meshes/idx-f2.obj" />
      </geometry>
    </collision>
	</link>
	<joint name="Left_ring_q1" type="revolute">
		<parent link="Left_thumb_base"/>
		<child link="Left_ring_L1"/>
		<origin xyz = "29.954260e-3 -14.212492e-3 -67.286105e-3" rpy = "-1.716598 1.321452 -1.675862" />
		<limit lower = "0" upper = "2.0943951" effort = "6.0" velocity = "8.0677777442"/>		<!-- angles in rad, efforts in N-m, velocity in rad/s -->
		<dynamics damping = "0.001" friction = "0.001" />	<!-- Friction coefficient is not from quantitative measurement -->
		<axis xyz="0 0 1"/>
	</joint>
	<joint name="Left_ring_q2" type="revolute">
		<parent link="Left_ring_L1"/>
		<child link="Left_ring_L2"/>
		<origin xyz = "38.472723e-3 3.257695e-3 0.000000" rpy = "0 0 0.084474"/>
		<axis xyz="0 0 1"/>
		<limit lower = "0.0" upper = "2.6586" effort = "6.0" velocity = "8.0677777442"/>		<!-- angles in rad, efforts in N-m, velocity in rad/s -->
		<dynamics damping = "0.001" friction = "0.001" />	<!-- Friction coefficient is not from quantitative measurement -->
		<mimic joint = "ring_q1" multiplier =  "1.05851325" offset = "0.72349796"/>
	</joint>
	<link name="Left_ring_anchor"/>
	<joint name="Left_rng_anchor" type="fixed">
		<parent link = "Left_ring_L2"/>
		<child link = "Left_ring_anchor"/>
		<origin rpy = "0 0 0" xyz = "31.5541e-3  -10.44e-3 0.14e-3"/>
	</joint>



	<link name="Left_pinky_L1" >
		<inertial>
			<mass value = "0.00635888"/>
			<inertia ixx="0.29766e-6" ixy = "-0.06447133e-6" ixz = "-0.00423315e-6" iyy = "3.6947967e-6" iyz = "0.00083028e-6" izz = "3.8176336e-6" />
			<origin xyz = "22.41911e-3 -0.15798201e-3 -0.01319866e-3" rpy = "0 0 0"/>
		</inertial>

		<visual name="pinky_mesh_1">
			<origin rpy = "0 0 0" xyz = "0 0 0"/>
			<geometry>
				<mesh filename="package://example-robot-data/robots/alex_description/meshes/idx-f1.obj"/>
			</geometry>
		</visual>
				<collision>
      <origin xyz="0 0 0" rpy="0 0 0" />
      <geometry>
        <mesh filename="package://example-robot-data/robots/alex_description/meshes/idx-f1.obj" />
      </geometry>
    </collision>
	</link>
	<link name="Left_pinky_L2" >
		<inertial>
			<mass value = "0.00645"/>
			<inertia ixx="0.82671e-6" ixy = "-1.08876e-6" ixz = "-0.00037e-6" iyy = "1.98028e-6" iyz = "0.00081e-6" izz = "2.64638e-6" />
			<origin rpy = "0 0 0" xyz = "13.36818e-3 -8.75392e-3 -0.02886e-3"/>
		</inertial>
		<visual name="pinky_mesh_2">
			<origin rpy = "0 0 0" xyz = "0 0 0"/>
			<geometry>
				<mesh filename="package://example-robot-data/robots/alex_description/meshes/idx-f2.obj"/>
			</geometry>
		</visual>
		<collision>
      <origin xyz="0 0 0" rpy="0 0 0" />
      <geometry>
        <mesh filename="package://example-robot-data/robots/alex_description/meshes/idx-f2.obj" />
      </geometry>
    </collision>
	</link>
	<joint name="Left_pinky_q1" type="revolute">
		<parent link="Left_thumb_base"/>
		<child link="Left_pinky_L1"/>
		<origin xyz = "49.521293e-3 -11.004583e-3 -63.029065e-3" rpy = "-1.765110 1.322220 -1.658383" />
		<limit lower = "0" upper = "2.0943951" effort = "6.0" velocity = "8.0677777442"/>		<!-- angles in rad, efforts in N-m, velocity in rad/s -->
		<dynamics damping = "0.001" friction = "0.001" />	<!-- Friction coefficient is not from quantitative measurement -->
		<axis xyz="0 0 1"/>
	</joint>
	<joint name="Left_pinky_q2" type="revolute">
		<parent link="Left_pinky_L1"/>
		<child link="Left_pinky_L2"/>
		<origin xyz = "38.472723e-3 3.257695e-3 0.000000" rpy = "0 0 0.084474"/>
		<limit lower = "0.0" upper = "2.6586" effort = "6.0" velocity = "8.0677777442"/>		<!-- angles in rad, efforts in N-m, velocity in rad/s -->
		<dynamics damping = "0.001" friction = "0.001" />	<!-- Friction coefficient is not from quantitative measurement -->
		<axis xyz="0 0 1"/>
		<mimic joint = "pinky_q1" multiplier =  "1.05851325" offset = "0.72349796"/>
	</joint>
	<link name="Left_pinky_anchor"/>
	<joint name="Left_pnky_anchor" type="fixed">
		<parent link = "Left_pinky_L2"/>
		<child link = "Left_pinky_anchor"/>
		<origin rpy = "0 0 0" xyz = "31.5541e-3  -10.44e-3 0.14e-3"/>
	</joint>



	<link name="Left_thumb_L1" >
		<inertial>
			<mass value = "0.00268342"/>
			<inertia ixx="0.16931e-6" ixy = "-0.076214e-6" ixz = "-0.16959148e-6" iyy = "0.77769934e-6" iyz = "0.0156622e-6" izz = "0.7249122e-6" />
			<origin rpy = "0 0 0" xyz = "14.606e-3 -1.890854e-3 -3.1155356e-3"/>
		</inertial>

		<visual name="thumb_mesh_1">
			<origin rpy = "0 0 0" xyz = "0 0 0"/>
			<geometry>
				<mesh filename="package://example-robot-data/robots/alex_description/meshes/thumb-f1.obj"/>
			</geometry>
		</visual>
		<collision>
      <origin xyz="0 0 0" rpy="0 0 0" />
      <geometry>
        <mesh filename="package://example-robot-data/robots/alex_description/meshes/thumb-f1.obj" />
      </geometry>
    </collision>

	</link>
	<link name="Left_thumb_L2" >
		<inertial>
			<mass value = "0.0055"/>
			<inertia ixx="4.4789082e-6" ixy = "4.4789082e-6" ixz = "-0.62144934e-6" iyy = "15.600996e-6" iyz = "-0.07466143e-6" izz = "17.908554e-6" />
			<origin rpy = "0 0 0" xyz = "30.020522e-3 5.59476e-3 -4.1504356e-3"/>
		</inertial>

		<visual name="thumb_mesh_2">
			<origin rpy = "0 0 0" xyz = "0 0 0"/>
			<geometry>
				<mesh filename="package://example-robot-data/robots/alex_description/meshes/thumb-f2-left.obj"/>
			</geometry>
		</visual>
		<collision>
      <origin xyz="0 0 0" rpy="0 0 0" />
      <geometry>
        <mesh filename="package://example-robot-data/robots/alex_description/meshes/thumb-f2-left.obj" />
      </geometry>
    </collision>

	</link>
	<joint name="Left_thumb_q1" type="revolute">
		<parent link="Left_thumb_base"/>
		<child link="Left_thumb_L1"/>
		<origin xyz = "0 0 0" rpy = "0 0 3.330437"/>
		<axis xyz="0 0 1"/>
		<limit lower = "-2.0943951" upper = "0" effort = "1.2" velocity = "40.338888721"/>		<!-- angles in rad, efforts in N-m, velocity in rad/s -->
		<dynamics damping = "0.001" friction = "0.001" />	<!-- Friction coefficient is not from quantitative measurement -->
	</joint>
	<joint name="Left_thumb_q2" type="revolute">
		<parent link="Left_thumb_L1"/>
		<child link="Left_thumb_L2"/>
		<origin xyz = "27.8283501e-3 0 -14.7507000e-3" rpy = "4.450589592585541 0 0" />
		<axis xyz="0 0 1"/>
		<limit lower = "0" upper = "2.0943951" effort = "6.0" velocity = "8.0677777442"/>		<!-- angles in rad, efforts in N-m, velocity in rad/s -->
		<dynamics damping = "0.001" friction = "0.001" />	<!-- Friction coefficient is not from quantitative measurement -->
	</joint>
	<link name="Left_thumb_anchor"/>
	<joint name="Left_thmb_anchor" type="fixed">
		<parent link = "Left_thumb_L2"/>
		<child link = "Left_thumb_anchor"/>
		<origin rpy = "0 0 0" xyz = "52.0012259e-3  28.0086971e-3 -.884835778e-3"/>
	</joint>
	<!-- End of Left Psyonic Ability Hand -->


	<!-- Right Psyonic Ability Hand -->
	<link name="RightPsyonicAbilityBaseLink">
		<visual name="wrist_mesh">
			<origin rpy = "0 0 0" xyz = "0 0 0"/>
			<geometry>
				<mesh filename="package://example-robot-data/robots/alex_description/meshes/wristmesh.obj"/>
			</geometry>
		</visual>
		<inertial>	<!-- the mass and inertia here are NOT correct -->
			<mass value = "0.200"/>
			<inertia ixx="978.26e-6" ixy = "87.34e-6" ixz = "322.99e-6" iyy = "1244.78e-6" iyz = "244.74e-6" izz = "456.22e-6" />
			<origin xyz = "22.41911e-3 -0.15798201e-3 -0.01319866e-3" rpy = "0 0 0"/>
		</inertial>
		<collision>
      <origin xyz="0 0 0" rpy="0 0 0" />
      <geometry>
        <mesh filename="package://example-robot-data/robots/alex_description/meshes/wristmesh.obj" />
      </geometry>
    </collision>
	</link>
	<joint name="Right_wrist2thumb" type="fixed">
		<parent link="RightPsyonicAbilityBaseLink"/>
		<child link="Right_thumb_base"/>
		<origin xyz = "-24.0476665e-3 3.78124745e-3 32.32964923e-3" rpy = "3.14148426 -0.08848813 -3.14036612"/>
	</joint>

	<link name="Right_thumb_base" >
		<inertial>
			<mass value = "0.200"/>
			<inertia ixx="978.26e-6" ixy = "87.34e-6" ixz = "322.99e-6" iyy = "1244.78e-6" iyz = "244.74e-6" izz = "456.22e-6" />
			<origin xyz = "22.41911e-3 -0.15798201e-3 -0.01319866e-3" rpy = "0 0 0"/>
		</inertial>

		<visual name="palm_mesh">
			<origin rpy = "0 0 0" xyz = "0 0 0"/>
			<geometry>
				<mesh filename="package://example-robot-data/robots/alex_description/meshes/fb_palm_ref_mir.obj"/>
			</geometry>
		</visual>
		<collision>
      <origin xyz="0 0 0" rpy="0 0 0" />
      <geometry>
        <mesh filename="package://example-robot-data/robots/alex_description/meshes/fb_palm_ref_mir.obj" />
      </geometry>
    </collision>
	</link>

	<link name="Right_index_L1" >
		<inertial>
			<mass value = "0.00635888"/>
			<inertia ixx="0.29766e-6" ixy = "-0.06447133e-6" ixz = "-0.00423315e-6" iyy = "3.6947967e-6" iyz = "0.00083028e-6" izz = "3.8176336e-6" />
			<origin xyz = "22.41911e-3 -0.15798201e-3 -0.01319866e-3" rpy = "0 0 0"/>
		</inertial>
		<visual name="index_mesh_1">
			<origin rpy = "0 0 0" xyz = "0 0 0"/>
			<geometry>
				<mesh filename="package://example-robot-data/robots/alex_description/meshes/idx-f1.obj"/>
			</geometry>
		</visual>
		<collision>
      <origin xyz="0 0 0" rpy="0 0 0" />
      <geometry>
        <mesh filename="package://example-robot-data/robots/alex_description/meshes/idx-f1.obj" />
      </geometry>
    </collision>
	</link>
	<link name="Right_index_L2" >
		<inertial>
			<mass value = "0.00645"/>
			<inertia ixx="0.82671e-6" ixy = "-1.08876e-6" ixz = "-0.00037e-6" iyy = "1.98028e-6" iyz = "0.00081e-6" izz = "2.64638e-6" />
			<origin rpy = "0 0 0" xyz = "13.36818e-3 -8.75392e-3 -0.02886e-3"/>
		</inertial>
		<visual name="index_mesh_2">
			<origin rpy = "0 0 0" xyz = "0 0 0"/>
			<geometry>
				<mesh filename="package://example-robot-data/robots/alex_description/meshes/idx-f2.obj"/>
			</geometry>
		</visual>
		<collision>
      <origin xyz="0 0 0" rpy="0 0 0" />
      <geometry>
        <mesh filename="package://example-robot-data/robots/alex_description/meshes/idx-f2.obj" />
      </geometry>
    </collision>
	</link>
	<joint name="Right_index_q1" type="revolute">
		<parent link="Right_thumb_base"/>
		<child link="Right_index_L1"/>
		<origin xyz = " 9.49e-3 -13.04e-3 -62.95e-3 " rpy = " -1.1595426535897932 1.284473 -1.0510016535897932 " />
		<axis xyz="0 0 1"/>
		<limit lower = "0" upper = "2.0943951" effort = "6.0" velocity = "8.0677777442"/>		<!-- angles in rad, efforts in N-m, velocity in rad/s -->
		<dynamics damping = "0.001" friction = "0.001" />	<!-- Friction coefficient is not from quantitative measurement -->
	</joint>
	<joint name="Right_index_q2" type="revolute">
		<parent link="Right_index_L1"/>
		<child link="Right_index_L2"/>
		<origin xyz = "38.472723e-3 3.257695e-3 0.000000e-3" rpy = "0 0 0.084474"/>
		<axis xyz="0 0 1"/>
		<limit lower = "0.0" upper = "2.6586" effort = "6.0" velocity = "8.0677777442"/>		<!-- angles in rad, efforts in N-m, velocity in rad/s -->
		<dynamics damping = "0.001" friction = "0.001" />	<!-- Friction coefficient is not from quantitative measurement -->
		<mimic joint = "index_q1" multiplier =  "1.05851325" offset = "0.72349796"/>
	</joint>
	<link name="Right_index_anchor"/>
	<joint name="Right_idx_anchor" type="fixed">
		<parent link = "Right_index_L2"/>
		<child link="Right_index_anchor"/>
		<origin rpy = "0 0 0" xyz = "31.5541e-3  -10.44e-3 0.14e-3"/>
	</joint>


	<link name="Right_middle_L1" >
		<inertial>
			<mass value = "0.00635888"/>
			<inertia ixx="0.29766e-6" ixy = "-0.06447133e-6" ixz = "-0.00423315e-6" iyy = "3.6947967e-6" iyz = "0.00083028e-6" izz = "3.8176336e-6" />
			<origin xyz = "22.41911e-3 -0.15798201e-3 -0.01319866e-3" rpy = "0 0 0"/>
		</inertial>

		<visual name="middle_mesh_1">
			<origin rpy = "0 0 0" xyz = "0 0 0"/>
			<geometry>
				<mesh filename="package://example-robot-data/robots/alex_description/meshes/idx-f1.obj"/>
			</geometry>
		</visual>
		<collision>
      <origin xyz="0 0 0" rpy="0 0 0" />
      <geometry>
        <mesh filename="package://example-robot-data/robots/alex_description/meshes/idx-f1.obj" />
      </geometry>
    </collision>

	</link>
	<link name="Right_middle_L2" >
		<inertial>
			<mass value = "0.00645"/>
			<inertia ixx="0.82671e-6" ixy = "-1.08876e-6" ixz = "-0.00037e-6" iyy = "1.98028e-6" iyz = "0.00081e-6" izz = "2.64638e-6" />
			<origin rpy = "0 0 0" xyz = "13.36818e-3 -8.75392e-3 -0.02886e-3"/>
		</inertial>
		<visual name="middle_mesh_2">
			<origin rpy = "0 0 0" xyz = "0 0 0"/>
			<geometry>
				<mesh filename="package://example-robot-data/robots/alex_description/meshes/idx-f2.obj"/>
			</geometry>
		</visual>
		<collision>
      <origin xyz="0 0 0" rpy="0 0 0" />
      <geometry>
        <mesh filename="package://example-robot-data/robots/alex_description/meshes/idx-f2.obj" />
      </geometry>
    </collision>
	</link>
	<joint name="Right_middle_q1" type="revolute">
		<parent link="Right_thumb_base"/>
		<child link="Right_middle_L1"/>
		<origin xyz = " -9.653191e-3 -15.310271e-3 -67.853949e-3 " rpy = " -1.2810616535897934 1.308458 -1.2453756535897933 " />
		<limit lower = "0" upper = "2.0943951" effort = "6.0" velocity = "8.0677777442"/>		<!-- angles in rad, efforts in N-m, velocity in rad/s -->
		<dynamics damping = "0.001" friction = "0.001" />	<!-- Friction coefficient is not from quantitative measurement -->
		<axis xyz="0 0 1"/>
	</joint>
	<joint name="Right_middle_q2" type="revolute">
		<parent link="Right_middle_L1"/>
		<child link="Right_middle_L2"/>
		<origin xyz = "38.472723e-3 3.257695e-3 0.000000" rpy = "0 0 0.084474"/>
		<axis xyz="0 0 1"/>
		<limit lower = "0.0" upper = "2.6586" effort = "6.0" velocity = "8.0677777442"/>		<!-- angles in rad, efforts in N-m, velocity in rad/s -->
		<dynamics damping = "0.001" friction = "0.001" />	<!-- Friction coefficient is not from quantitative measurement -->
		<mimic joint = "middle_q1" multiplier =  "1.05851325" offset = "0.72349796"/>
	</joint>
	<link name="Right_middle_anchor"/>
	<joint name="Right_mid_anchor" type="fixed">
		<parent link = "Right_middle_L2"/>
		<child link="Right_middle_anchor"/>
		<origin rpy = "0 0 0" xyz = "31.5541e-3  -10.44e-3 0.14e-3"/>
	</joint>

	<link name="Right_ring_L1" >
		<inertial>
			<mass value = "0.00635888"/>
			<inertia ixx="0.29766e-6" ixy = "-0.06447133e-6" ixz = "-0.00423315e-6" iyy = "3.6947967e-6" iyz = "0.00083028e-6" izz = "3.8176336e-6" />
			<origin xyz = "22.41911e-3 -0.15798201e-3 -0.01319866e-3" rpy = "0 0 0"/>
		</inertial>

		<visual name="ring_mesh_1">
			<origin rpy = "0 0 0" xyz = "0 0 0"/>
			<geometry>
				<mesh filename="package://example-robot-data/robots/alex_description/meshes/idx-f1.obj"/>
			</geometry>
		</visual>
		<collision>
      <origin xyz="0 0 0" rpy="0 0 0" />
      <geometry>
        <mesh filename="package://example-robot-data/robots/alex_description/meshes/idx-f1.obj" />
      </geometry>
    </collision>
	</link>
	<link name="Right_ring_L2" >
		<inertial>
			<mass value = "0.00645"/>
			<inertia ixx="0.82671e-6" ixy = "-1.08876e-6" ixz = "-0.00037e-6" iyy = "1.98028e-6" iyz = "0.00081e-6" izz = "2.64638e-6" />
			<origin rpy = "0 0 0" xyz = "13.36818e-3 -8.75392e-3 -0.02886e-3"/>
		</inertial>
		<visual name="ring_mesh_2">
			<origin rpy = "0 0 0" xyz = "0 0 0"/>
			<geometry>
				<mesh filename="package://example-robot-data/robots/alex_description/meshes/idx-f2.obj"/>
			</geometry>
		</visual>
		<collision>
      <origin xyz="0 0 0" rpy="0 0 0" />
      <geometry>
        <mesh filename="package://example-robot-data/robots/alex_description/meshes/idx-f2.obj" />
      </geometry>
    </collision>
	</link>
	<joint name="Right_ring_q1" type="revolute">
		<parent link="Right_thumb_base"/>
		<child link="Right_ring_L1"/>
		<origin xyz = " -29.95426e-3 -14.212492e-3 -67.286105e-3 " rpy = " -1.424994653589793 1.321452 -1.4657306535897934 " />
		<limit lower = "0" upper = "2.0943951" effort = "6.0" velocity = "8.0677777442"/>		<!-- angles in rad, efforts in N-m, velocity in rad/s -->
		<dynamics damping = "0.001" friction = "0.001" />	<!-- Friction coefficient is not from quantitative measurement -->
		<axis xyz="0 0 1"/>
	</joint>
	<joint name="Right_ring_q2" type="revolute">
		<parent link="Right_ring_L1"/>
		<child link="Right_ring_L2"/>
		<origin xyz = "38.472723e-3 3.257695e-3 0.000000" rpy = "0 0 0.084474"/>
		<axis xyz="0 0 1"/>
		<limit lower = "0.0" upper = "2.6586" effort = "6.0" velocity = "8.0677777442"/>		<!-- angles in rad, efforts in N-m, velocity in rad/s -->
		<dynamics damping = "0.001" friction = "0.001" />	<!-- Friction coefficient is not from quantitative measurement -->
		<mimic joint = "ring_q1" multiplier =  "1.05851325" offset = "0.72349796"/>
	</joint>
	<link name="Right_ring_anchor"/>
	<joint name="Right_rng_anchor" type="fixed">
		<parent link = "Right_ring_L2"/>
		<child link="Right_ring_anchor"/>
		<origin rpy = "0 0 0" xyz = "31.5541e-3  -10.44e-3 0.14e-3"/>
	</joint>

	<link name="Right_pinky_L1" >
		<inertial>
			<mass value = "0.00635888"/>
			<inertia ixx="0.29766e-6" ixy = "-0.06447133e-6" ixz = "-0.00423315e-6" iyy = "3.6947967e-6" iyz = "0.00083028e-6" izz = "3.8176336e-6" />
			<origin xyz = "22.41911e-3 -0.15798201e-3 -0.01319866e-3" rpy = "0 0 0"/>
		</inertial>

		<visual name="pinky_mesh_1">
			<origin rpy = "0 0 0" xyz = "0 0 0"/>
			<geometry>
				<mesh filename="package://example-robot-data/robots/alex_description/meshes/idx-f1.obj"/>
			</geometry>
		</visual>
				<collision>
      <origin xyz="0 0 0" rpy="0 0 0" />
      <geometry>
        <mesh filename="package://example-robot-data/robots/alex_description/meshes/idx-f1.obj" />
      </geometry>
    </collision>

	</link>
	<link name="Right_pinky_L2" >
		<inertial>
			<mass value = "0.00645"/>
			<inertia ixx="0.82671e-6" ixy = "-1.08876e-6" ixz = "-0.00037e-6" iyy = "1.98028e-6" iyz = "0.00081e-6" izz = "2.64638e-6" />
			<origin rpy = "0 0 0" xyz = "13.36818e-3 -8.75392e-3 -0.02886e-3"/>
		</inertial>
		<visual name="pinky_mesh_2">
			<origin rpy = "0 0 0" xyz = "0 0 0"/>
			<geometry>
				<mesh filename="package://example-robot-data/robots/alex_description/meshes/idx-f2.obj"/>
			</geometry>
		</visual>
		<collision>
      <origin xyz="0 0 0" rpy="0 0 0" />
      <geometry>
        <mesh filename="package://example-robot-data/robots/alex_description/meshes/idx-f2.obj" />
      </geometry>
    </collision>

	</link>
	<joint name="Right_pinky_q1" type="revolute">
		<parent link="Right_thumb_base"/>
		<child link="Right_pinky_L1"/>
		<origin xyz = " -49.521293e-3 -11.004583e-3 -63.029065e-3 " rpy = " -1.3764826535897934 1.32222 -1.4832096535897932 " />
		<limit lower = "0" upper = "2.0943951" effort = "6.0" velocity = "8.0677777442"/>		<!-- angles in rad, efforts in N-m, velocity in rad/s -->
		<dynamics damping = "0.001" friction = "0.001" />	<!-- Friction coefficient is not from quantitative measurement -->
		<axis xyz="0 0 1"/>
	</joint>
	<joint name="Right_pinky_q2" type="revolute">
		<parent link="Right_pinky_L1"/>
		<child link="Right_pinky_L2"/>
		<origin xyz = "38.472723e-3 3.257695e-3 0.000000" rpy = "0 0 0.084474"/>
		<limit lower = "0.0" upper = "2.6586" effort = "6.0" velocity = "8.0677777442"/>		<!-- angles in rad, efforts in N-m, velocity in rad/s -->
		<dynamics damping = "0.001" friction = "0.001" />	<!-- Friction coefficient is not from quantitative measurement -->
		<axis xyz="0 0 1"/>
		<mimic joint = "pinky_q1" multiplier =  "1.05851325" offset = "0.72349796"/>
	</joint>
	<link name="Right_pinky_anchor"/>
	<joint name="Right_pnky_anchor" type="fixed">
		<parent link = "Right_pinky_L2"/>
		<child link="Right_pinky_anchor"/>
		<origin rpy = "0 0 0" xyz = "31.5541e-3  -10.44e-3 0.14e-3"/>
	</joint>

	<link name="Right_thumb_L1" >
		<inertial>
			<mass value = "0.00268342"/>
			<inertia ixx="0.16931e-6" ixy = "-0.076214e-6" ixz = "-0.16959148e-6" iyy = "0.77769934e-6" iyz = "0.0156622e-6" izz = "0.7249122e-6" />
			<origin rpy = "0 0 0" xyz = "14.606e-3 -1.890854e-3 -3.1155356e-3"/>
		</inertial>

		<visual name="thumb_mesh_1">
			<origin rpy = "0 0 0" xyz = "0 0 0"/>
			<geometry>
				<mesh filename="package://example-robot-data/robots/alex_description/meshes/thumb-f1-mir.obj"/>
			</geometry>
		</visual>
		<collision>
      <origin xyz="0 0 0" rpy="0 0 0" />
      <geometry>
        <mesh filename="package://example-robot-data/robots/alex_description/meshes/thumb-f1-mir.obj" />
      </geometry>
    </collision>

	</link>
	<link name="Right_thumb_L2" >
		<inertial>
			<mass value = "0.0055"/>
			<inertia ixx="4.4789082e-6" ixy = "4.4789082e-6" ixz = "-0.62144934e-6" iyy = "15.600996e-6" iyz = "-0.07466143e-6" izz = "17.908554e-6" />
			<origin rpy = "0 0 0" xyz = "30.020522e-3 5.59476e-3 -4.1504356e-3"/>
		</inertial>

		<visual name="thumb_mesh_2">
			<origin rpy = "0 0 0" xyz = "0 0 0"/>
			<geometry>
				<mesh filename="package://example-robot-data/robots/alex_description/meshes/thumb-f2-right.obj"/>
			</geometry>
		</visual>
		<collision>
      <origin xyz="0 0 0" rpy="0 0 0" />
      <geometry>
        <mesh filename="package://example-robot-data/robots/alex_description/meshes/thumb-f2-right.obj" />
      </geometry>
    </collision>

	</link>
	<joint name="Right_thumb_q1" type="revolute">
		<parent link="Right_thumb_base"/>
		<child link="Right_thumb_L1"/>
		<origin xyz = " 0.0 0.0 0.0 " rpy = " 3.141592653589793 -0.0 -0.18884434641020664 " />
		<axis xyz="0 0 1"/>
		<limit lower = "-2.0943951" upper = "0" effort = "1.2" velocity = "40.338888721"/>		<!-- angles in rad, efforts in N-m, velocity in rad/s -->
		<dynamics damping = "0.001" friction = "0.001" />	<!-- Friction coefficient is not from quantitative measurement -->
	</joint>
	<joint name="Right_thumb_q2" type="revolute">
		<parent link="Right_thumb_L1"/>
		<child link="Right_thumb_L2"/>
		<origin xyz = " 27.8283501e-3 1.7436510745838653e-19 14.7507e-3 " rpy = " 1.832595714594045 -0.0 5.366520605522463e-18 " />
		<axis xyz="0 0 1"/>
		<limit lower = "0" upper = "2.0943951" effort = "6.0" velocity = "8.0677777442"/>		<!-- angles in rad, efforts in N-m, velocity in rad/s -->
		<dynamics damping = "0.001" friction = "0.001" />	<!-- Friction coefficient is not from quantitative measurement -->
	</joint>
	<link name="Right_thumb_anchor"/>
	<joint name="Right_thmb_anchor" type="fixed">
		<parent link = "Right_thumb_L2"/>
		<child link="Right_thumb_anchor"/>
		<origin rpy = "0 0 0" xyz = "52.00122724e-3 28.00869333e-3 6.98483578e-3"/>
	</joint>
	<!-- End of Right Psyonic Ability Hand -->
</robot>
